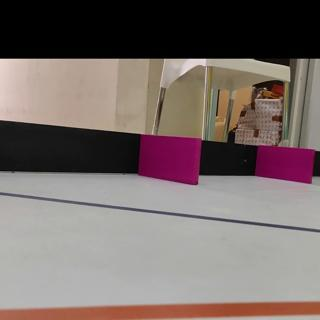xparking: (143, 139, 199, 184), (260, 149, 312, 182)
